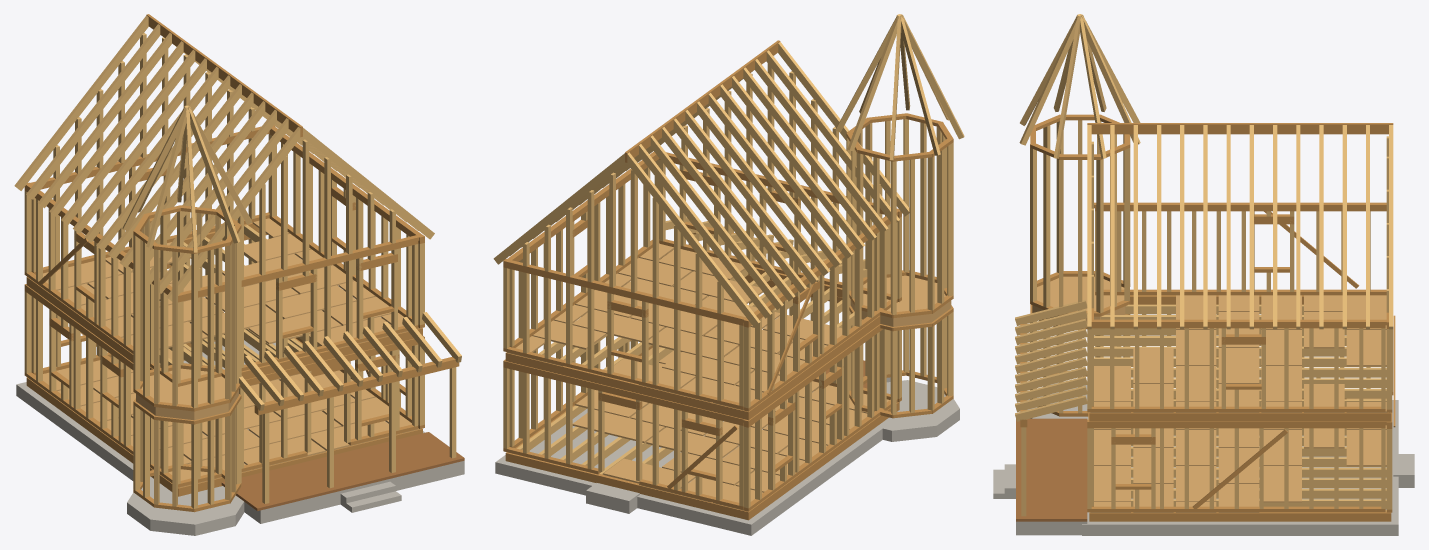
Rendered from base-10-framing.glb.
3 views of the same model, side by side, from view 1: azimuth 30°, elevation 25°; view 2: azimuth 150°, elevation 25°; view 3: azimuth 270°, elevation 25° (orthographic).
Parts seen in each view (by area): view 1: base_house_10_framing; view 2: base_house_10_framing; view 3: base_house_10_framing.
Part boxes in pixels (<box>): base_house_10_framing: <box>14,14,464,535</box>; base_house_10_framing: <box>493,14,964,535</box>; base_house_10_framing: <box>993,14,1414,535</box>.
Bounding box in the file's own units: 9.8 × 12.43 × 11.84.
